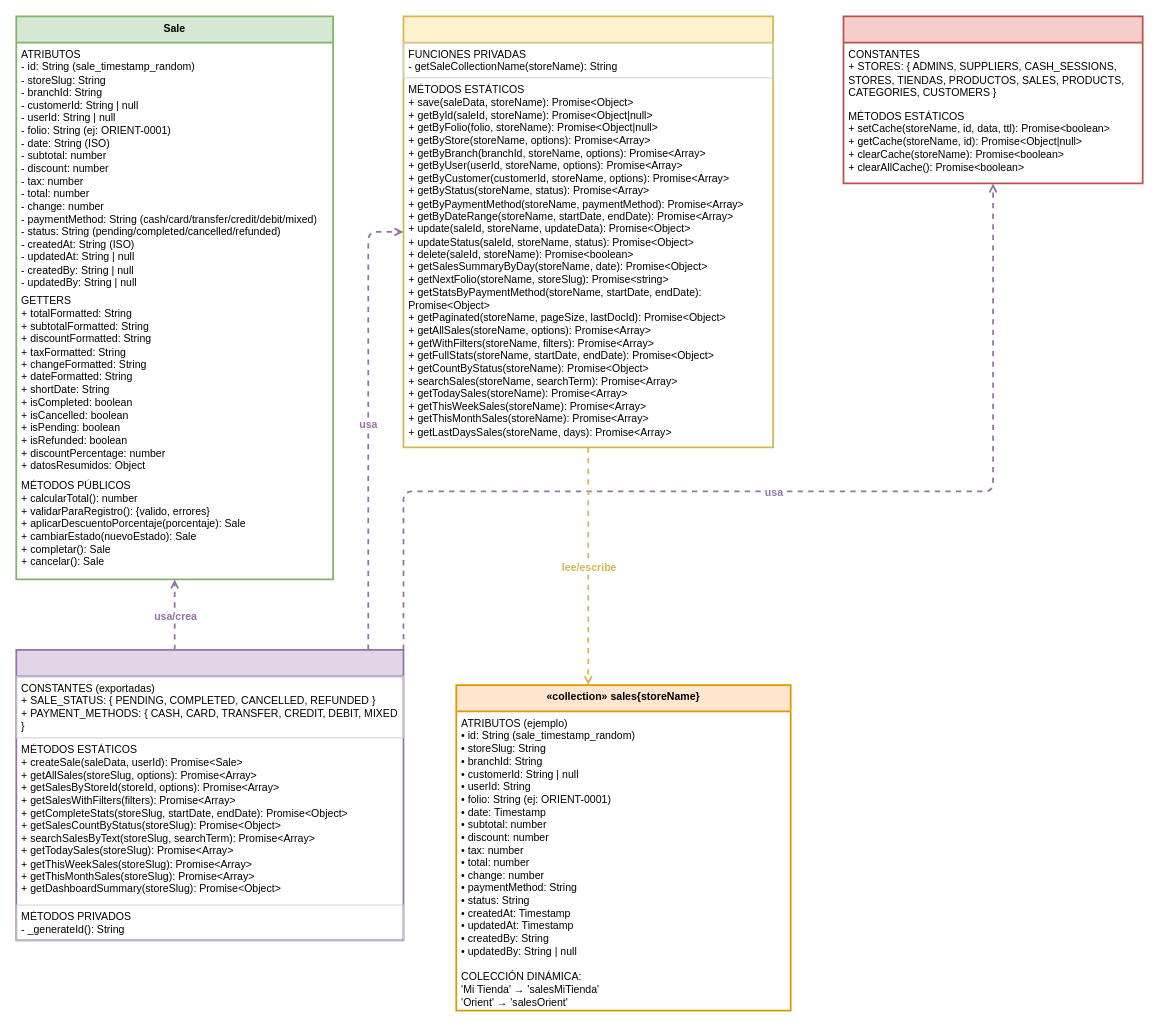
The diagram is 1158 pixels wide and 1028 high, and some of its shapes have lost their labels. Each missing label, with the box of its shape:
CacheService: (842, 15, 1143, 184)
SaleRepository: (402, 15, 774, 448)
SaleService: (15, 649, 404, 941)
